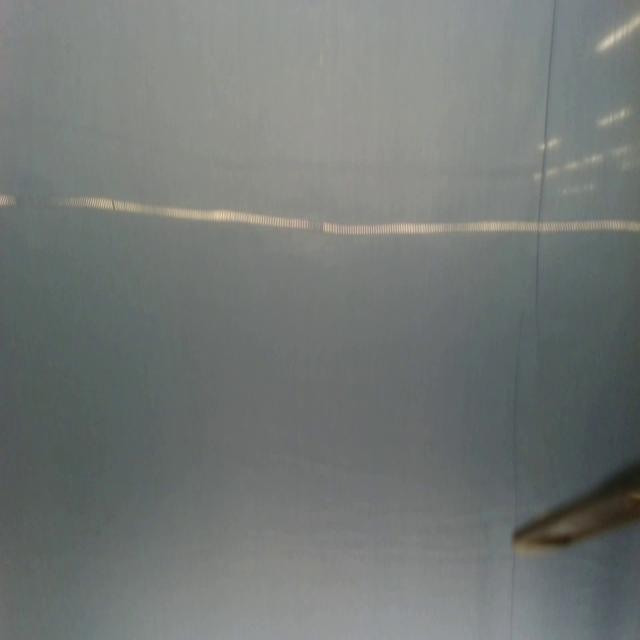crease: (532, 0, 559, 345), (512, 331, 524, 527), (508, 553, 517, 640)
